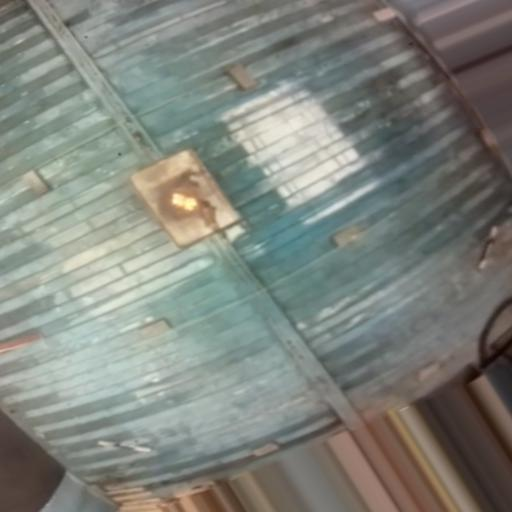Fire: (169, 191, 198, 212)
